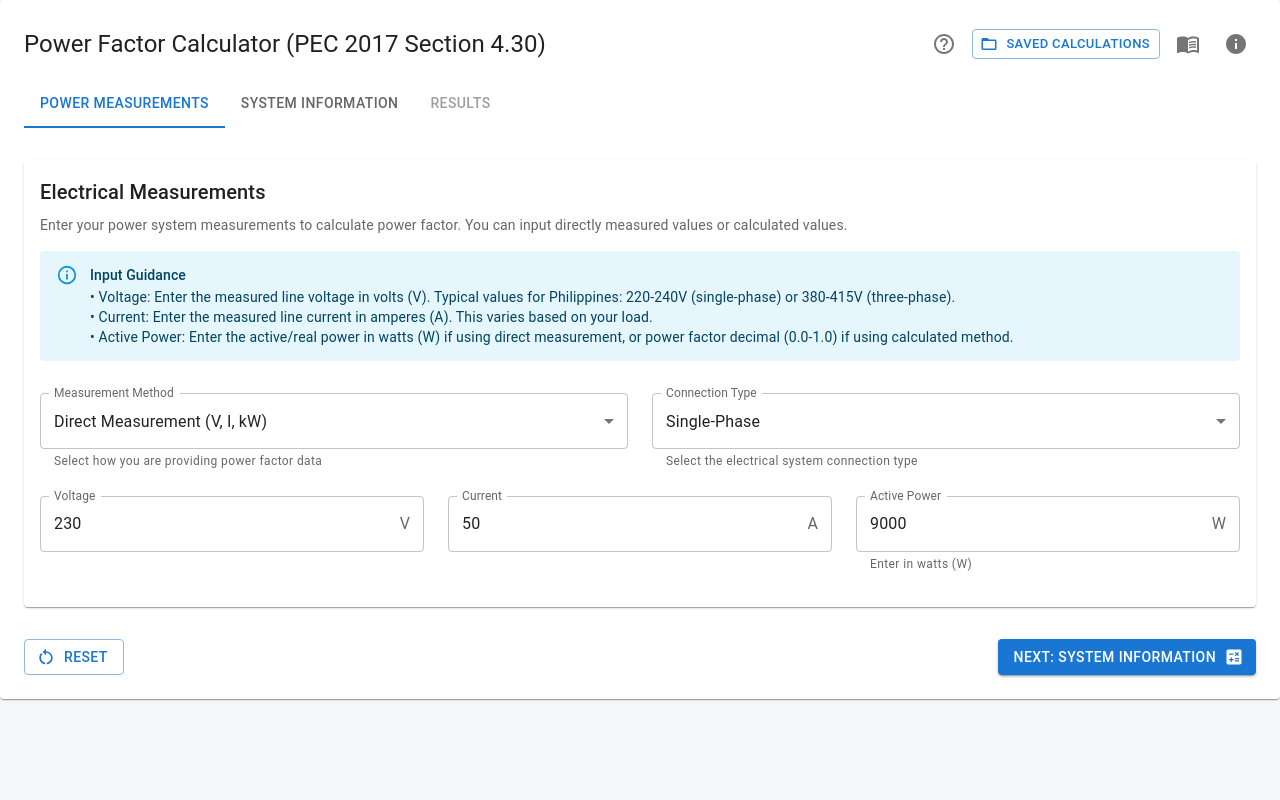
Test: PowerFactorCalculator Component › calculates power factor and shows results
Navigate to system information tab
Click the button "Next: System Information".
click(1127, 657)  # box x1=998 y1=639 x2=1256 y2=675
(page scrolled)
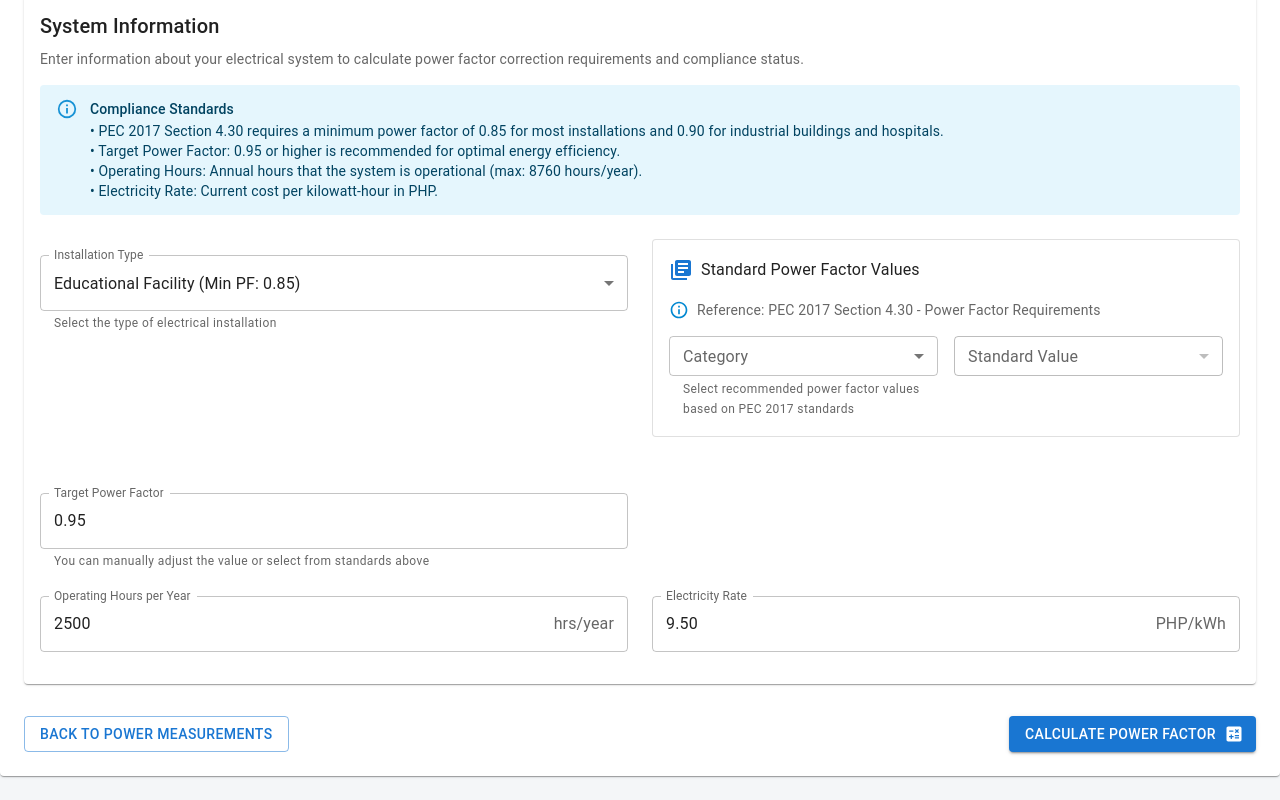
Click calculate button
Click the button "Calculate Power Factor".
click(1132, 734)  # box x1=1009 y1=716 x2=1256 y2=752
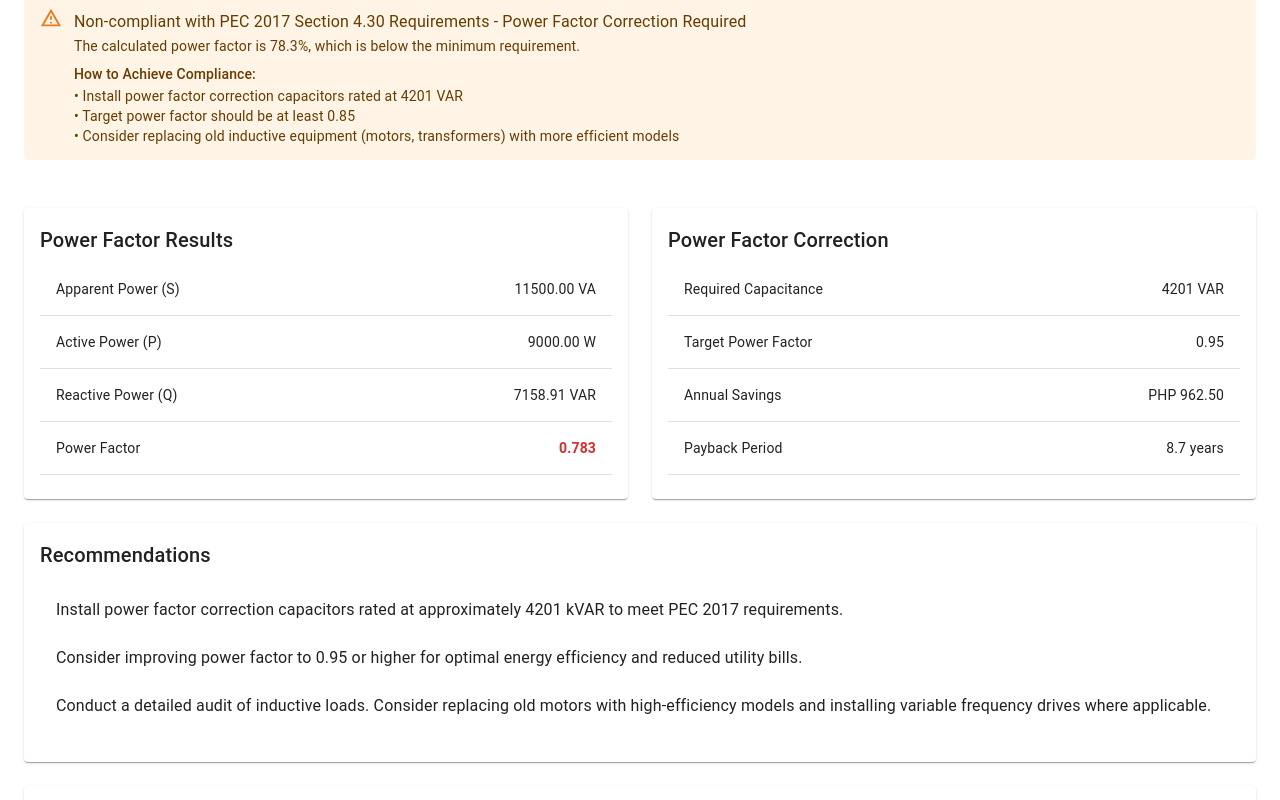
Now the heading "Power Factor Results" is shown, box x1=40 y1=228 x2=233 y2=252
Now the column heading "Power Factor" is shown, box x1=40 y1=422 x2=370 y2=475
Now the column heading "Required Capacitance" is shown, box x1=668 y1=263 x2=1019 y2=316
